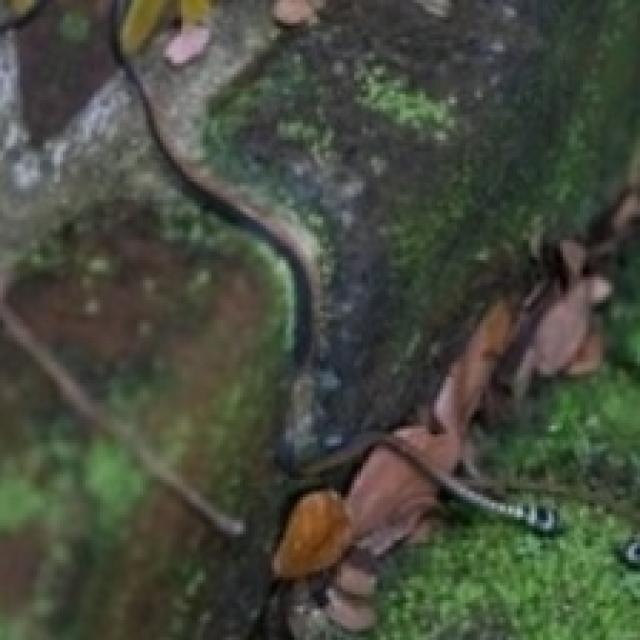paradise tree snake: (110, 0, 562, 534)
